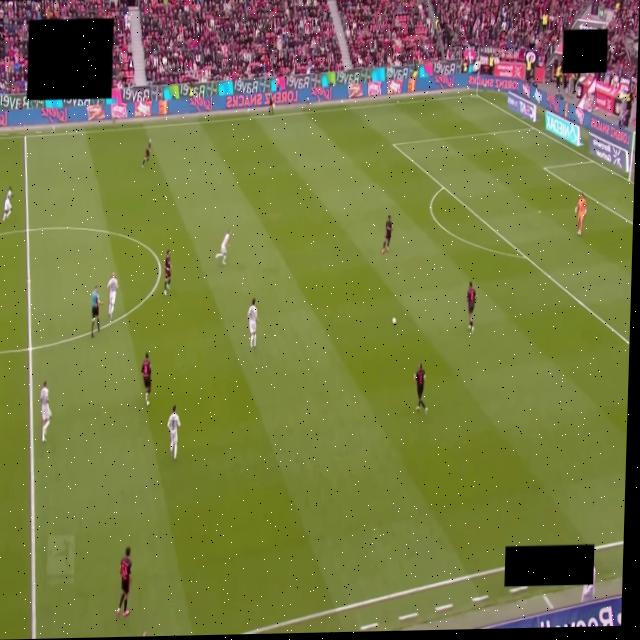ball: (392, 317, 397, 325)
player: (116, 548, 130, 616), (413, 362, 427, 413), (40, 382, 51, 442), (167, 406, 179, 459), (141, 353, 151, 406), (215, 230, 230, 265), (106, 273, 117, 319), (466, 282, 476, 332), (247, 298, 257, 347), (575, 193, 586, 235), (381, 215, 391, 254), (163, 250, 170, 295), (2, 187, 11, 221), (141, 140, 150, 167)
referee: (91, 286, 101, 337)
